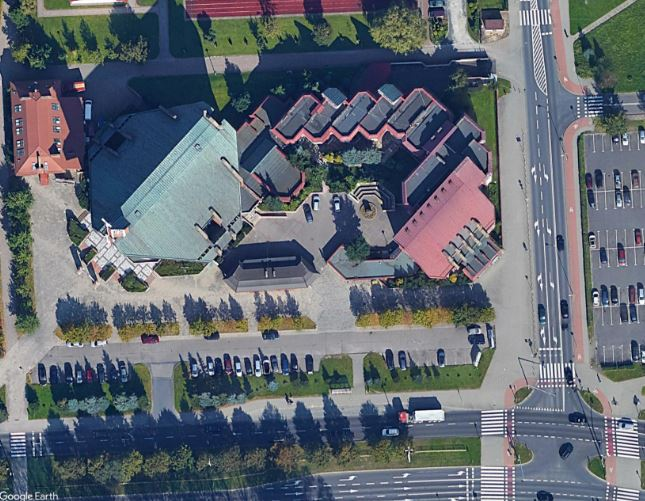block of flats: (246, 82, 511, 284), (9, 72, 92, 188)
church: (83, 93, 244, 274)
